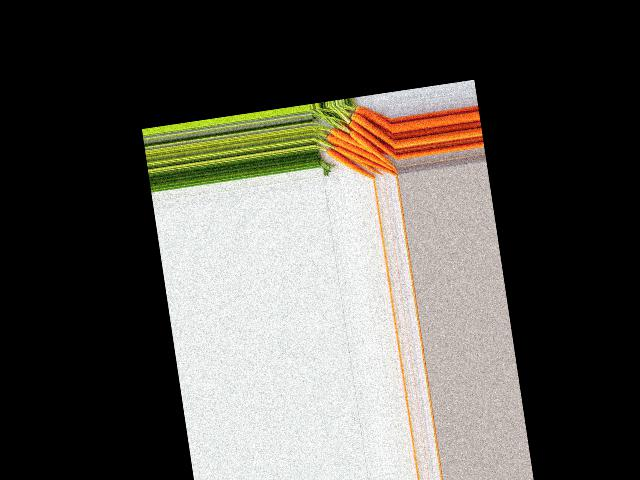carrot: (353, 101, 392, 132)
